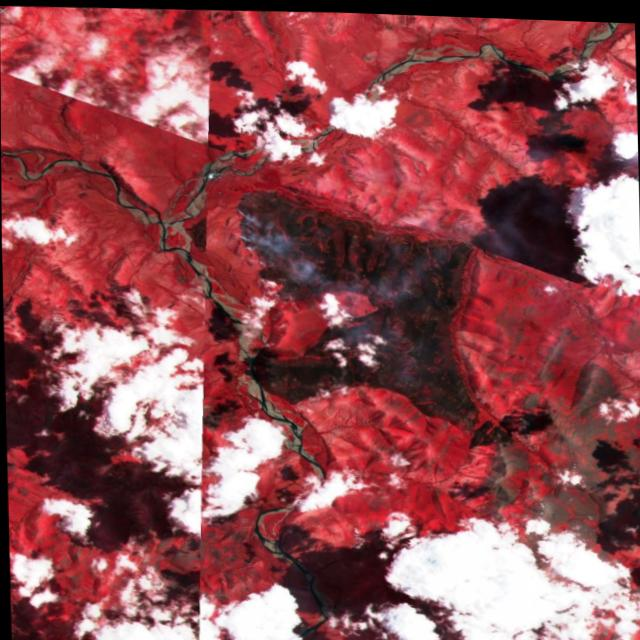fire: (210, 178, 309, 302)
